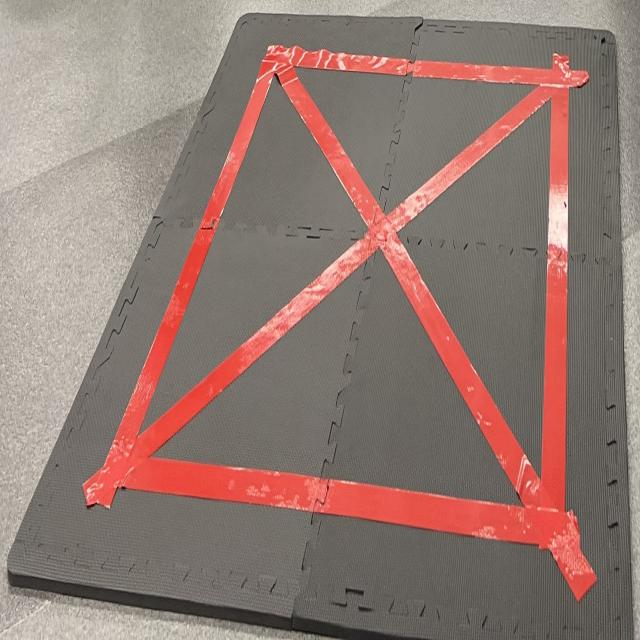landingPads: (6, 13, 630, 640)
